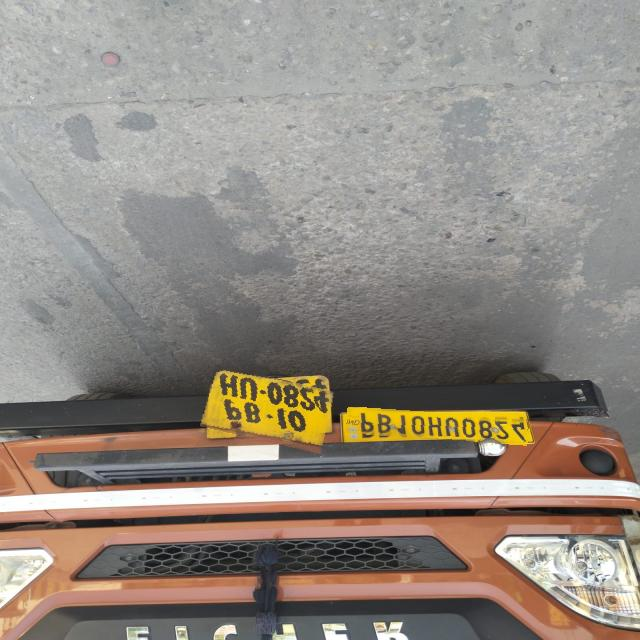License-plate: (204, 370, 332, 448), (347, 410, 529, 443)
